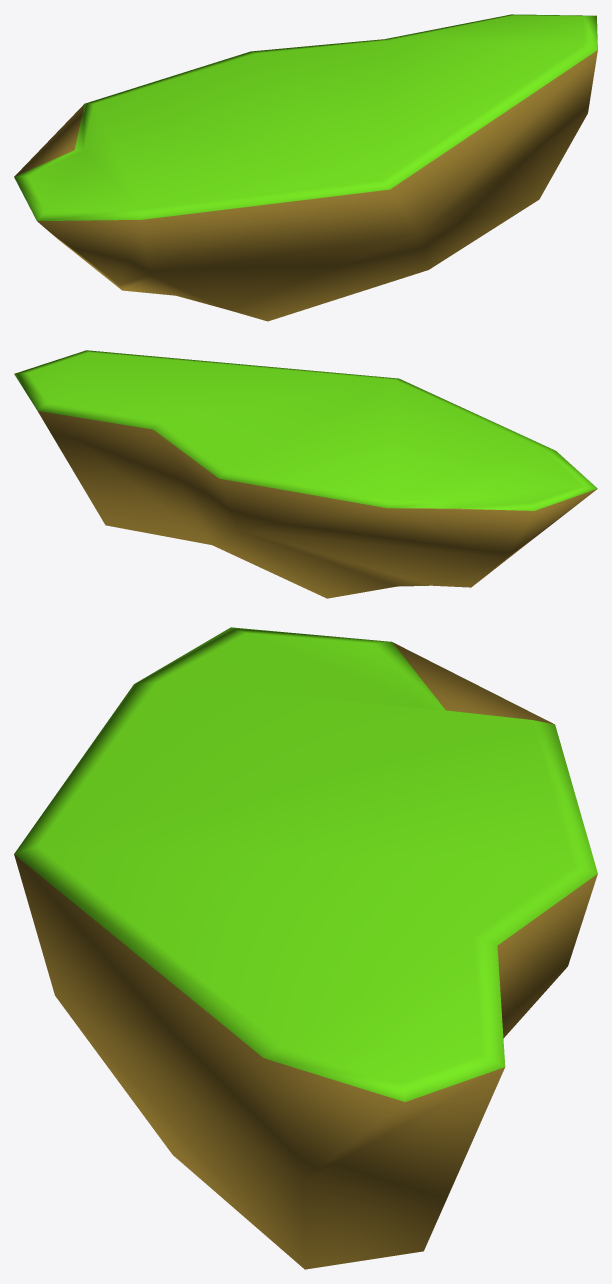
The model's file is hiddenisland.fbx.
3 views of the same model, one above another, from view 1: azimuth 30°, elevation 25°; view 2: azimuth 150°, elevation 25°; view 3: azimuth 270°, elevation 25° (orthographic). The views are drawn at different scales.
Visible parts, largest first — view 1: Plane; view 2: Plane; view 3: Plane.
Part boxes in pixels (x1,y1,x2,y2): Plane: (14, 14, 597, 321); Plane: (14, 350, 597, 598); Plane: (14, 627, 597, 1269).
Size of the model in its own units: 5142 by 1501 by 2505.
